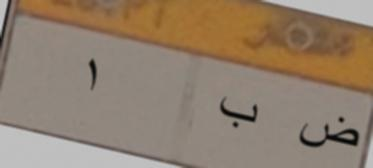1: (84, 52, 102, 99)
baa: (212, 92, 262, 136)
daad: (296, 107, 361, 158)
